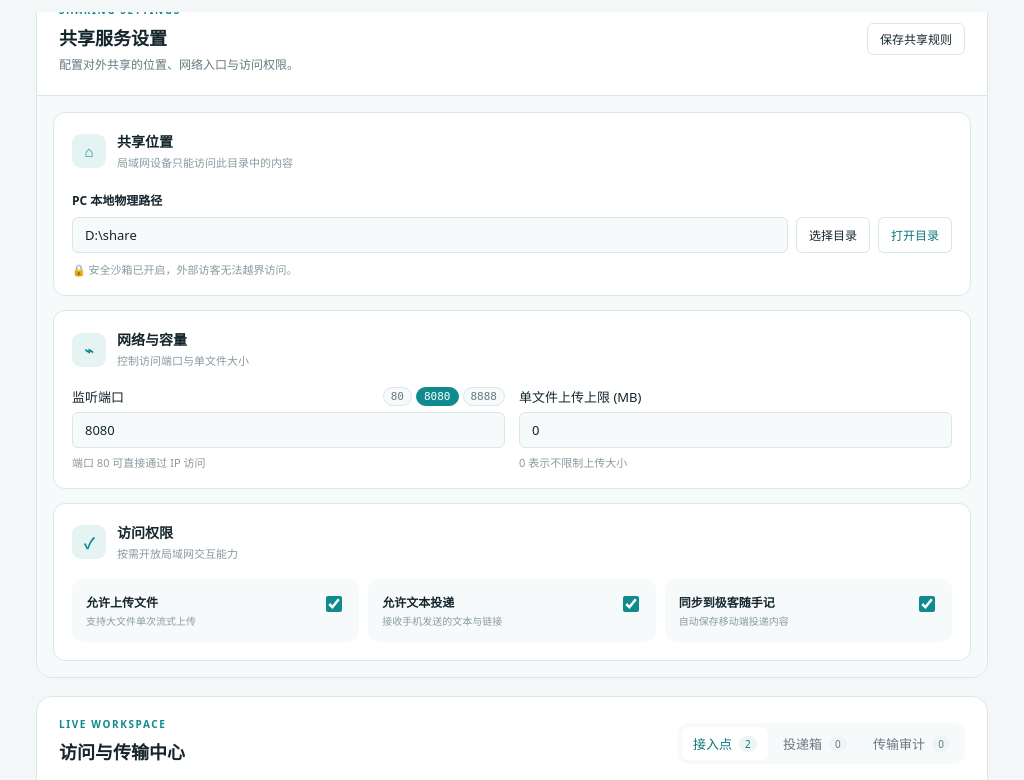
Test: FileShareView 服务启停与配置 › 快捷端口芯片即时改写表单端口
This screenshot has width=1024, height=780.
Click the button "80" at (397,396), box top-left (383, 387), bottom-right (412, 406)
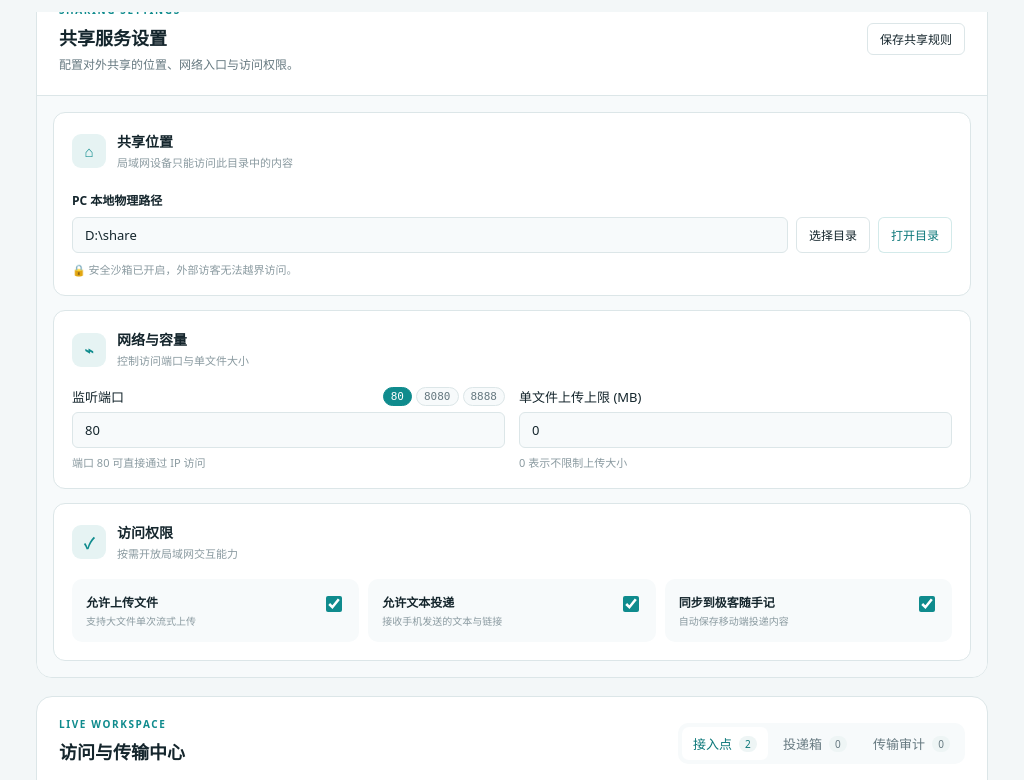
Now the number field with id "share-port" holds "80", box top-left (72, 412), bottom-right (505, 448)
